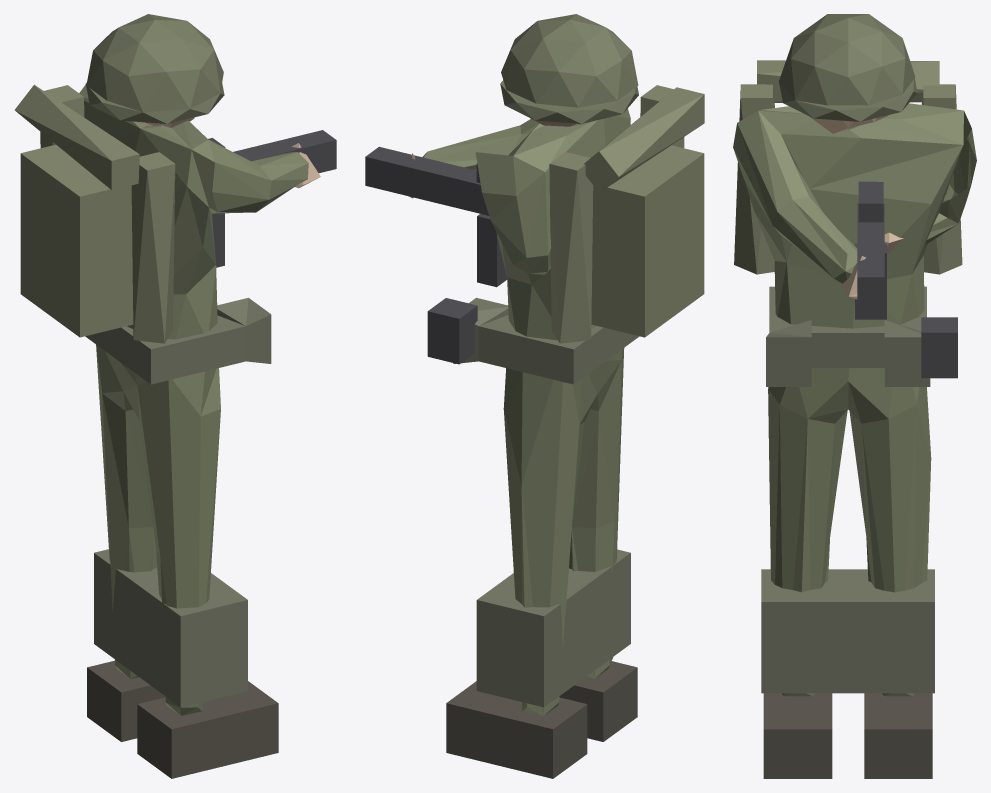
File: trooper_us_ww2.lod2.glb
3 renders of one model, left to right at view 1: azimuth 30°, elevation 25°; view 2: azimuth 150°, elevation 25°; view 3: azimuth 270°, elevation 25°, orthographic.
Bounding box in the file's own units: 0.735 × 1.74 × 0.534.
